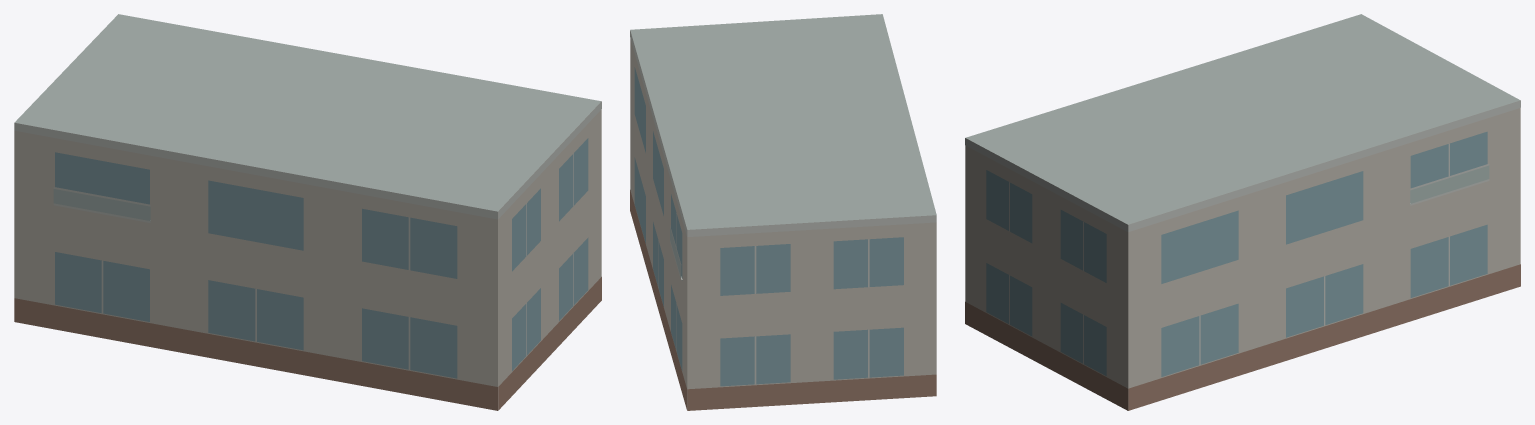
Rendered from survey-upis-32582201.glb.
3 renders of one model, left to right at view 1: azimuth 30°, elevation 25°; view 2: azimuth 150°, elevation 25°; view 3: azimuth 270°, elevation 25°, orthographic. The views are drawn at different scales.
Visible parts, largest first — view 1: survey-upis-32582201.tmp; view 2: survey-upis-32582201.tmp; view 3: survey-upis-32582201.tmp.
Boxes of the visible parts, x1,y1,x2,y2 form: survey-upis-32582201.tmp: (14, 14, 601, 410); survey-upis-32582201.tmp: (630, 14, 936, 410); survey-upis-32582201.tmp: (965, 14, 1520, 410).
Bounding box in the file's own units: 14.83 × 6.1 × 16.51.
